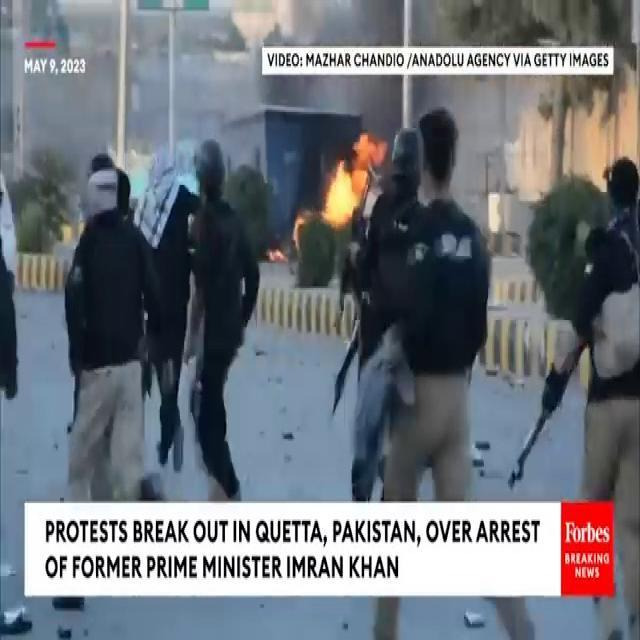Fire: (318, 125, 387, 234)
